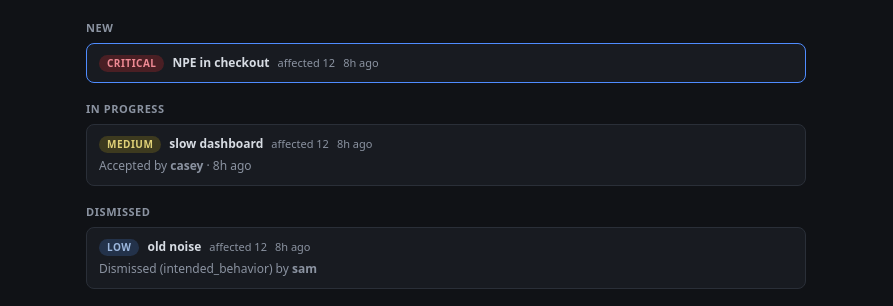
Test: InboxView › opens the one-screen decision view with evidence and prior outcomes
Later steps or results of the test are not shown.
Click the button with test id "inbox-row" that starts with "critical".
click(132, 63)  # box [86,43,806,83]
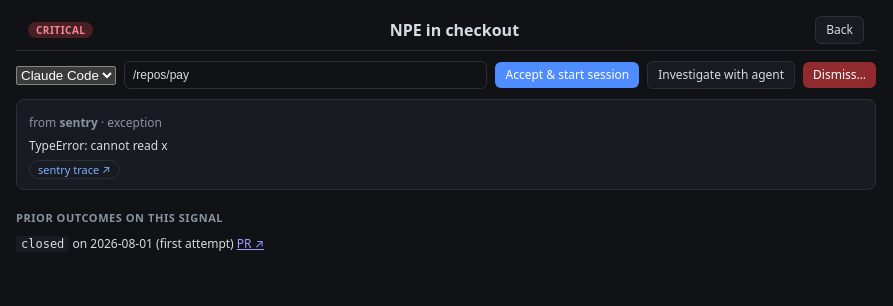
Expected: the element with test id "inbox-detail" shows "TypeError: cannot read x", [29,137,168,154]
Expected: the list with test id "inbox-outcomes" shows "closed", [21,237,64,251]
Expected: the list with test id "inbox-outcomes" shows "first attempt", [153,235,234,252]
